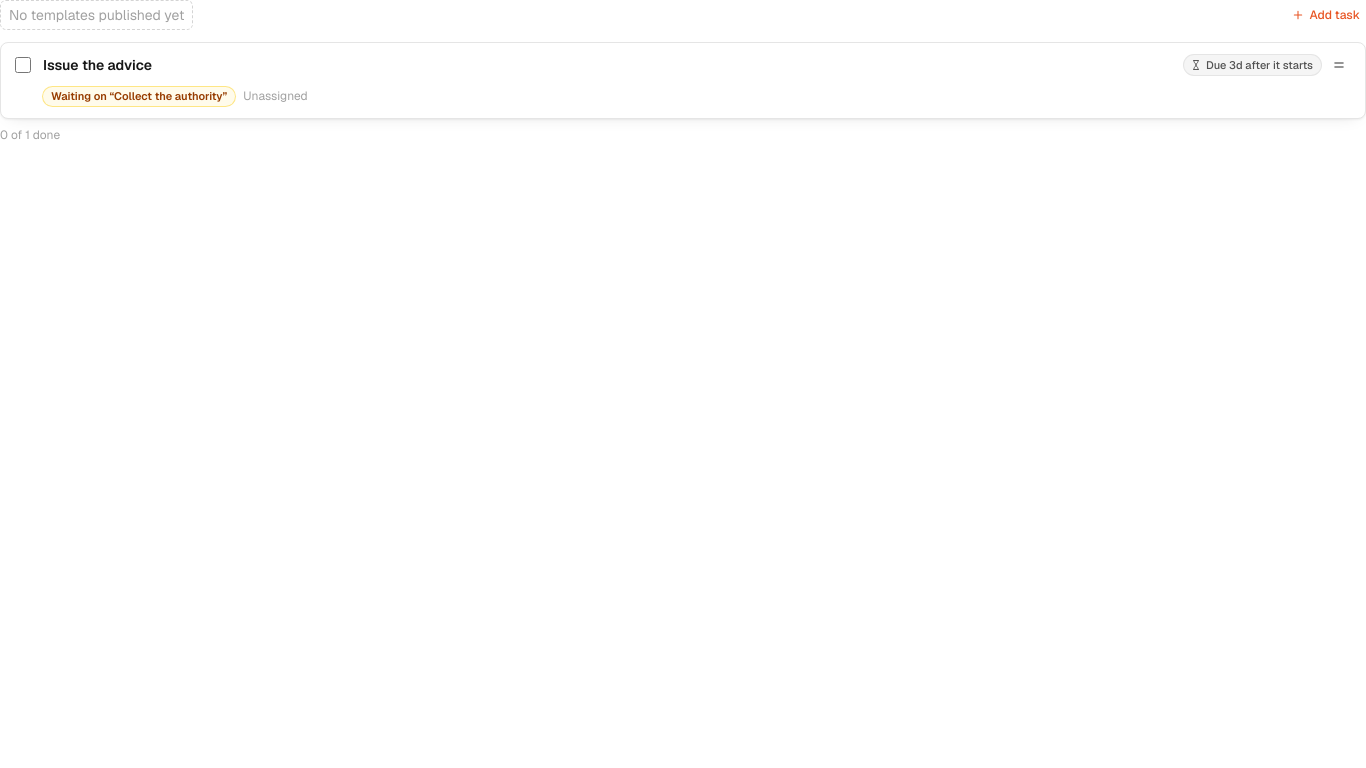
Test: a blocked task › ticking it asks first, naming what is still open
This screenshot has width=1366, height=768.
Click the checkbox named "Issue the advice".
click(23, 65)  # box [15,57,31,73]
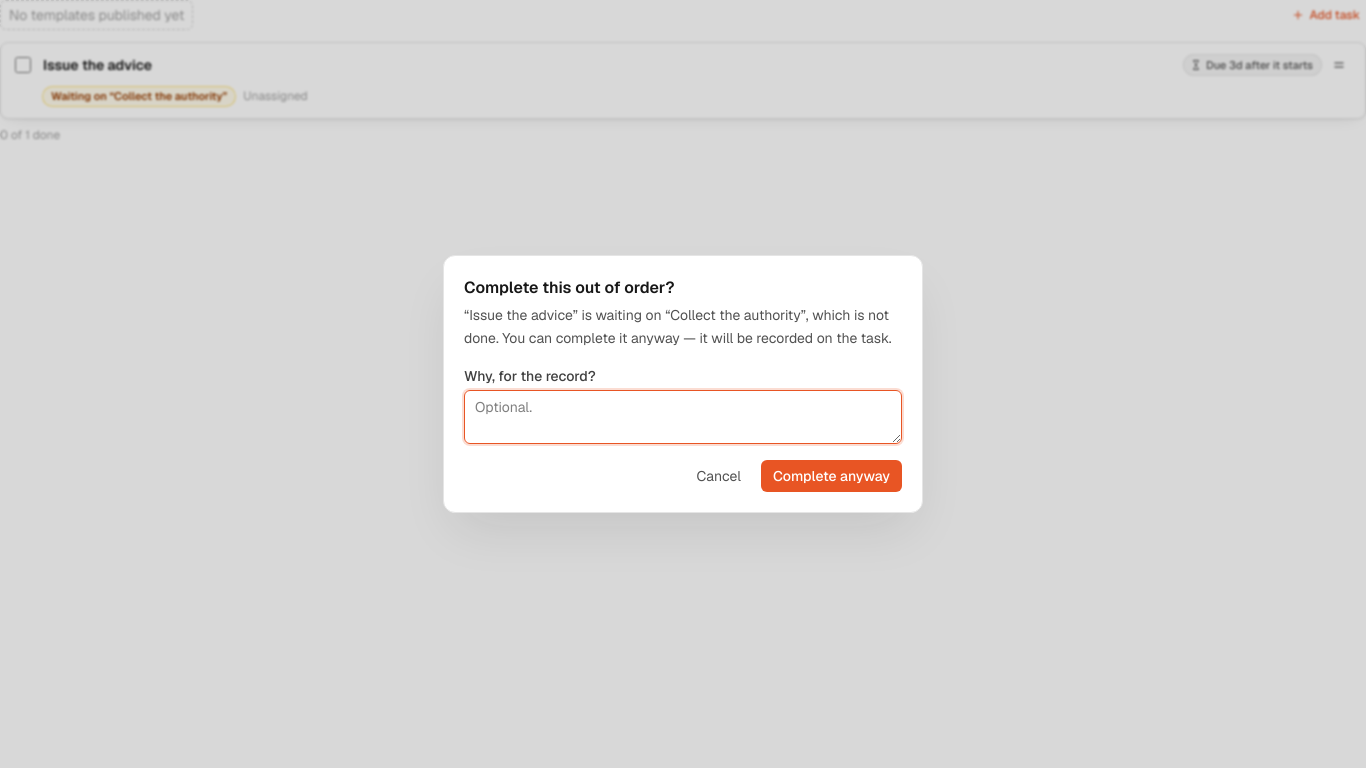
Expected: the heading "Complete this out of order?" is shown, [464,277,675,298]
Expected: the element that starts with "Complete this out of order?" shows "Collect the authority", [464,306,889,347]
